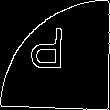P_S: (36, 29, 74, 81)
